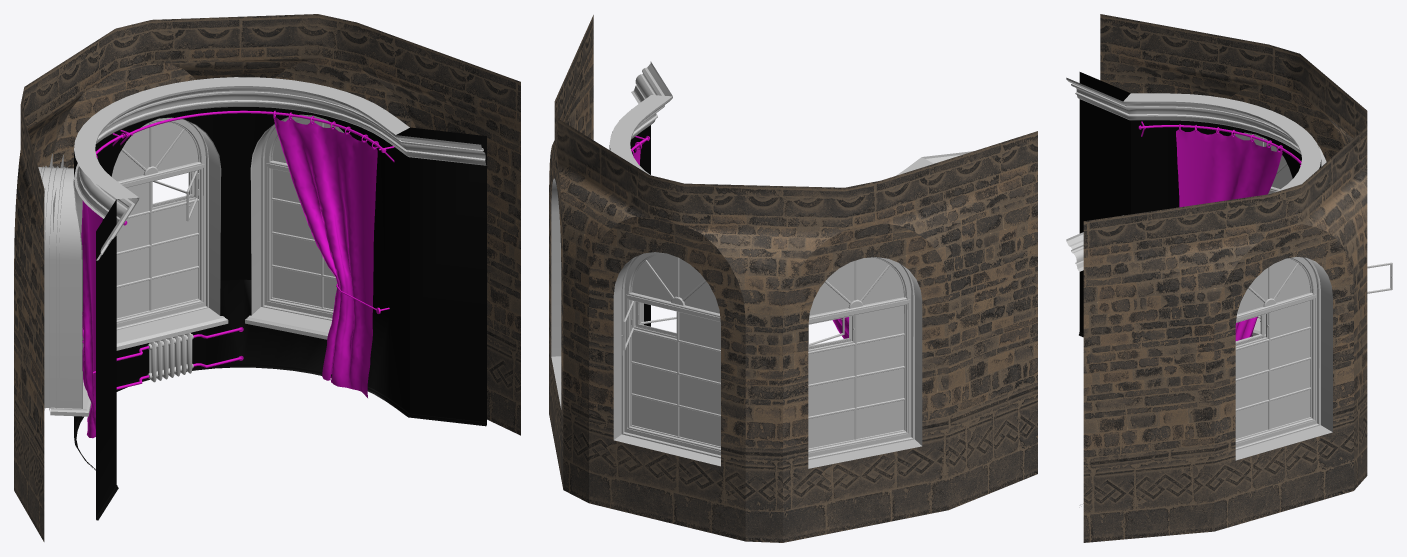
File: wall window 2.fbx
The picture shows the model from 3 angles, left to right: view 1: azimuth 30°, elevation 25°; view 2: azimuth 150°, elevation 25°; view 3: azimuth 270°, elevation 25°; orthographic projection. The views are drawn at different scales.
Visible parts, largest first — view 1: Cylinder002, Cylinder002.002, curtR001, glass, Group017, Cylinder002.001, glass006, Group019, curtL001, Box119, Group018, Cylinder068; view 2: Cylinder002.002, Cylinder002.001, glass003, glass, Cylinder002, Group018, Group017; view 3: Cylinder002.002, Cylinder002.001, Cylinder002, glass006, curtL001, Group019, Cylinder068, glass003.
Boxes of the visible parts, x1,y1,x2,y2 form: Cylinder002: (38, 77, 486, 520); Cylinder002.002: (14, 14, 520, 541); curtR001: (273, 110, 389, 397); glass: (111, 121, 198, 318); Group017: (116, 118, 228, 350); Cylinder002.001: (53, 58, 415, 168); glass006: (272, 119, 343, 309); Group019: (245, 115, 335, 339); curtL001: (81, 154, 102, 438); Box119: (116, 327, 243, 389); Group018: (40, 166, 91, 416); Cylinder068: (95, 110, 394, 225); Cylinder002.002: (552, 15, 1037, 542); Cylinder002.001: (549, 143, 948, 542); glass003: (808, 257, 903, 448); glass: (632, 253, 720, 446); Cylinder002: (551, 61, 973, 468); Group018: (808, 257, 914, 460); Group017: (621, 252, 720, 458); Cylinder002.002: (1083, 14, 1367, 542); Cylinder002.001: (1214, 84, 1353, 531); Cylinder002: (1066, 72, 1332, 460); glass006: (1235, 258, 1310, 438); curtL001: (1176, 124, 1282, 207); Group019: (1235, 257, 1320, 450); Cylinder068: (1138, 121, 1301, 166); glass003: (1240, 137, 1292, 188).
Bounding box in the file's own units: 676 × 490 × 450.
